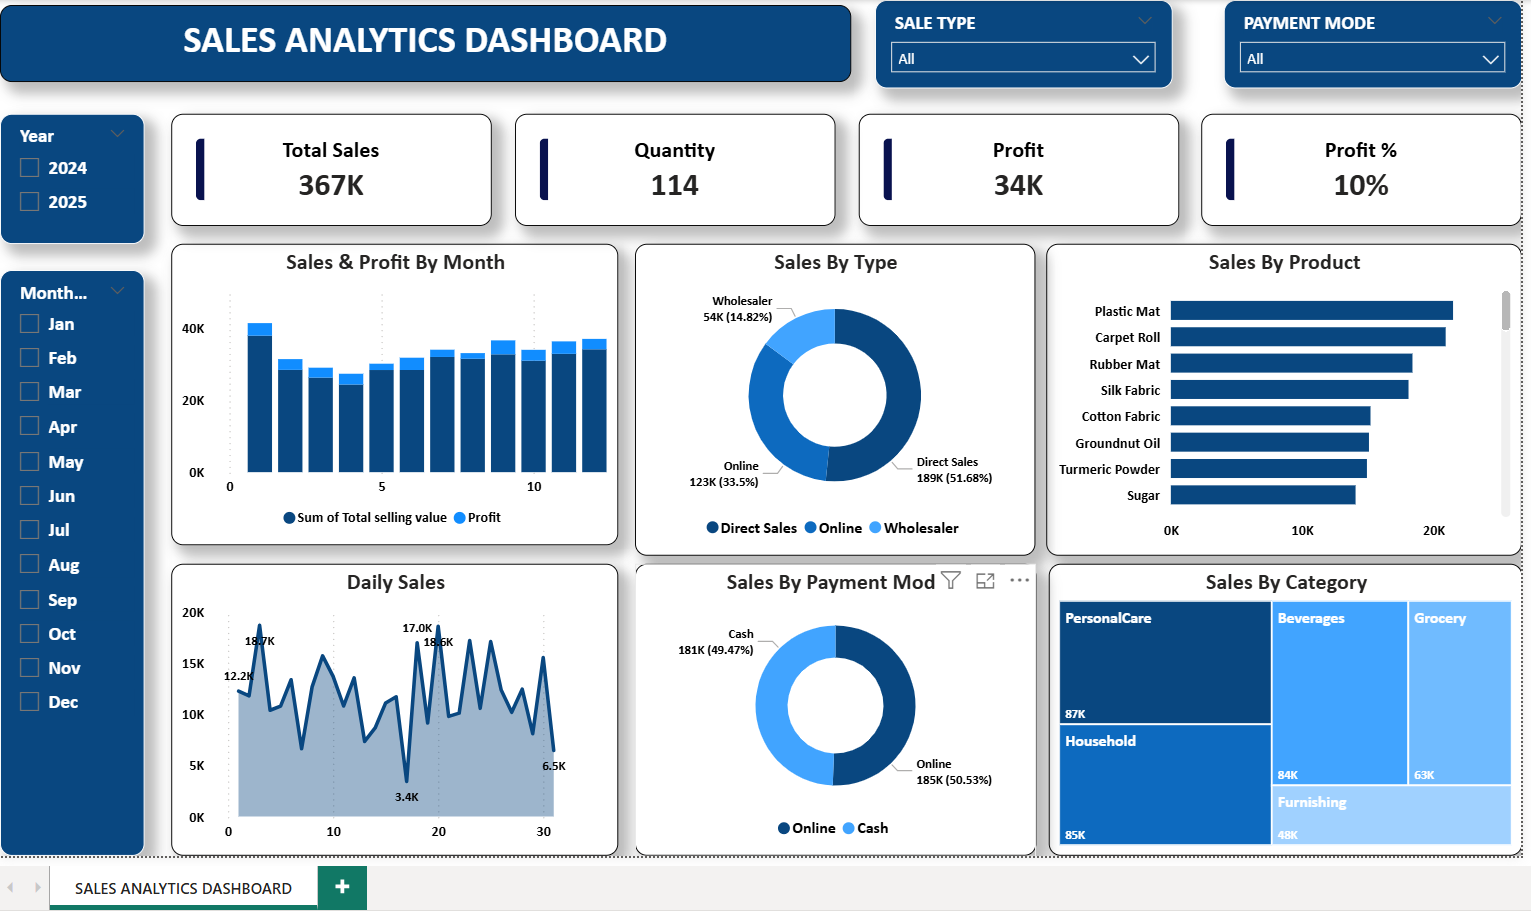

The page's visual inventory and layout, read from the dashboard file:
{"tool":"powerbi","page":{"name":"SALES ANALYTICS DASHBOARD","canvas":[1280,720],"ordinal":0},"visuals":[{"type":"textbox","box":[0,4.2,716,65.2],"z":0},{"type":"slicer","fields":{"Values":["InputData.Year"]},"box":[0,95.6,121.7,109.3],"z":1000},{"type":"slicer","fields":{"Values":["InputData.Month Name"]},"box":[0,227.2,121.7,493],"z":2000},{"type":"slicer","fields":{"Values":["InputData.SALE TYPE"]},"box":[736.4,0,250,74.5],"z":3000},{"type":"slicer","fields":{"Values":["InputData.PAYMENT MODE"]},"box":[1029.4,0,250.8,74.5],"z":4000},{"type":"cardVisual","title":"Total Sales","fields":{"Data":["Sum(InputData.Total selling value)"]},"box":[144,95.6,269.5,94.4],"z":5000},{"type":"cardVisual","title":"Total Sales","fields":{"Data":["Sum(InputData.QUANTITY)"]},"box":[433,95.6,269.5,94.4],"z":6000},{"type":"cardVisual","title":"Total Sales","fields":{"Data":["InputData.Profit"]},"box":[721.9,95.6,269.5,94.4],"z":7000},{"type":"cardVisual","title":"Total Sales","fields":{"Data":["InputData.Profit %"]},"box":[1010.5,95.6,269.5,94.4],"z":8000},{"type":"columnChart","title":"Sales & Profit By Month","fields":{"Y":["Sum(InputData.Total selling value)","InputData.Profit"],"Category":["InputData.Month"]},"box":[144,204.9,376.3,253.3],"z":9000},{"type":"areaChart","title":"Daily Sales","fields":{"Category":["InputData.Day"],"Y":["Sum(InputData.Total selling value)"]},"box":[144,474.4,376.3,245.9],"z":10000},{"type":"clusteredBarChart","title":"Sales By Product","fields":{"Y":["Sum(InputData.Total selling value)"],"Category":["InputData.MasterData.PRODUCT"]},"box":[880.4,204.9,399.8,262],"z":11000},{"type":"treemap","title":"Sales By Category","fields":{"Group":["InputData.MasterData.CATEGORY"],"Values":["Sum(InputData.Total selling value)"]},"box":[881.6,474.4,398.6,245.9],"z":12000},{"type":"donutChart","title":"Sales By Type","fields":{"Y":["Sum(InputData.Total selling value)"],"Category":["InputData.SALE TYPE"]},"box":[534,204.9,336.5,262],"z":13000},{"type":"donutChart","title":"Sales By Payment Mode","fields":{"Y":["Sum(InputData.Total selling value)"],"Category":["InputData.PAYMENT MODE"]},"box":[534,474.4,337.8,245.9],"z":14000}]}

Visuals, with their boxes in screenshot pixels (x1, y1, x2, y2):
textbox: locate(0, 5, 845, 82)
slicer - InputData.Year: locate(0, 113, 144, 242)
slicer - InputData.Month Name: locate(0, 268, 144, 850)
slicer - InputData.SALE TYPE: locate(869, 0, 1164, 88)
slicer - InputData.PAYMENT MODE: locate(1214, 0, 1510, 88)
"Total Sales" cardVisual: locate(170, 113, 488, 224)
"Total Sales" cardVisual: locate(511, 113, 829, 224)
"Total Sales" cardVisual: locate(852, 113, 1169, 224)
"Total Sales" cardVisual: locate(1192, 113, 1510, 224)
"Sales & Profit By Month" columnChart: locate(170, 242, 614, 540)
"Daily Sales" areaChart: locate(170, 560, 614, 850)
"Sales By Product" clusteredBarChart: locate(1038, 242, 1510, 551)
"Sales By Category" treemap: locate(1040, 560, 1510, 850)
"Sales By Type" donutChart: locate(630, 242, 1027, 551)
"Sales By Payment Mode" donutChart: locate(630, 560, 1028, 850)
